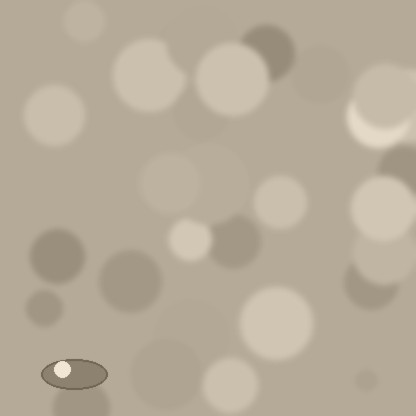gota: (41, 360, 107, 392)
